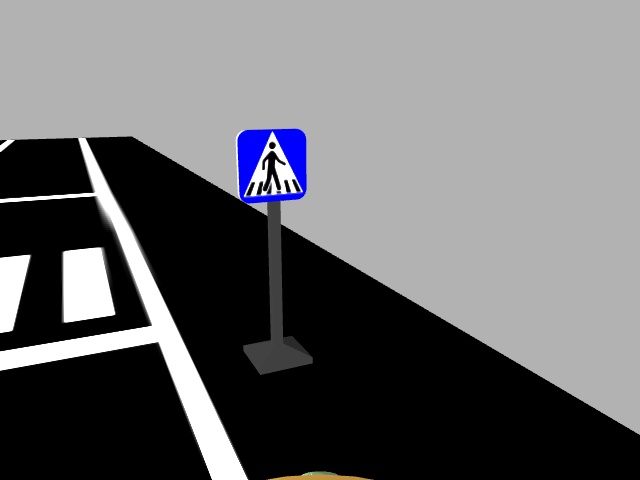Crosswalk: (231, 127, 307, 203)
